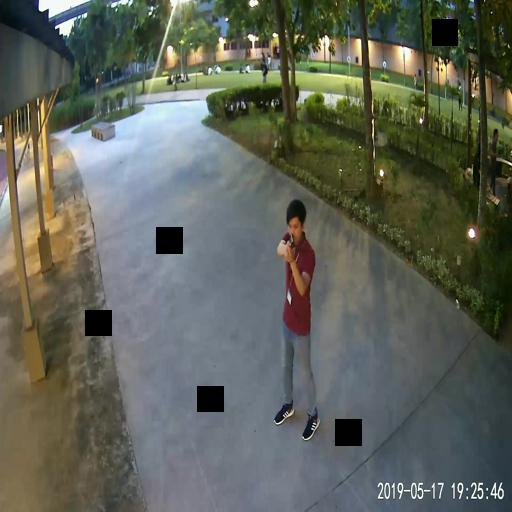Handgun: (287, 230, 293, 261)
